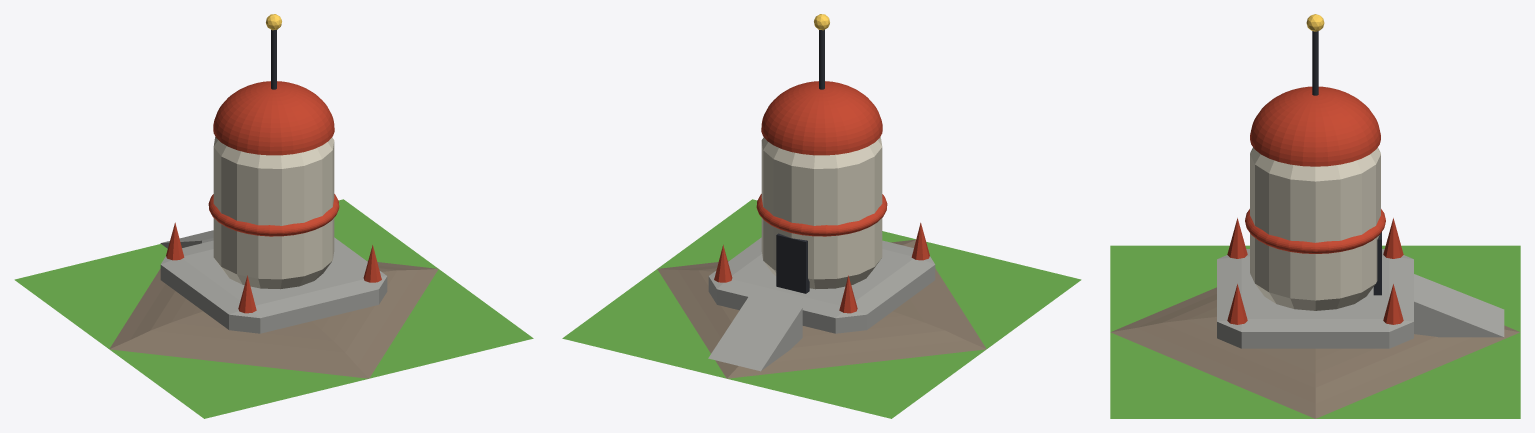
Rendered from rc_silo_test.glb.
3 renders of one model, left to right at view 1: azimuth 30°, elevation 25°; view 2: azimuth 150°, elevation 25°; view 3: azimuth 270°, elevation 25°, orthographic. The views are drawn at different scales.
Visible parts, largest first — view 1: ground, tank, body, antenna; view 2: ground, tank, body, antenna; view 3: ground, tank, body, antenna.
Part boxes in pixels (left/top/right/bottom): ground: left=14, top=199, right=533, bottom=418; tank: left=208, top=81, right=339, bottom=289; body: left=160, top=222, right=387, bottom=333; antenna: left=266, top=14, right=281, bottom=89; ground: left=562, top=199, right=1081, bottom=418; tank: left=756, top=81, right=887, bottom=293; body: left=708, top=222, right=935, bottom=371; antenna: left=814, top=14, right=829, bottom=89; ground: left=1110, top=245, right=1520, bottom=418; tank: left=1245, top=86, right=1385, bottom=310; body: left=1217, top=218, right=1504, bottom=348; antenna: left=1306, top=14, right=1324, bottom=95.
Bounding box in the file's own units: 5 × 4.27 × 5.
